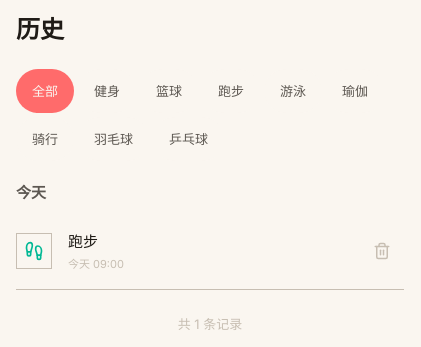
Test: History 历史记录页 › 筛选后无结果时显示"没有符合条件的记录"
Expected: the element with test id "group-今天" is shown, [16, 181, 404, 290]
Click the button "瑜伽".
click(355, 91)  # box [326, 69, 384, 113]
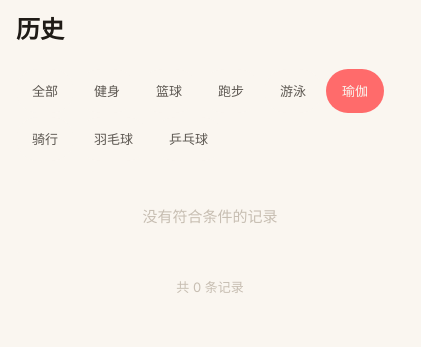
Now the text "没有符合条件的记录" is shown, box [16, 181, 404, 253]
